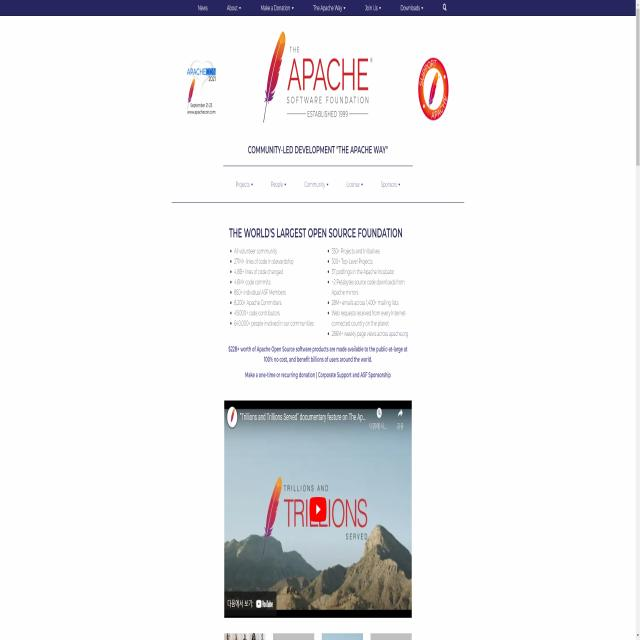tab-bar: (226, 170, 403, 198), (196, 1, 450, 13)
